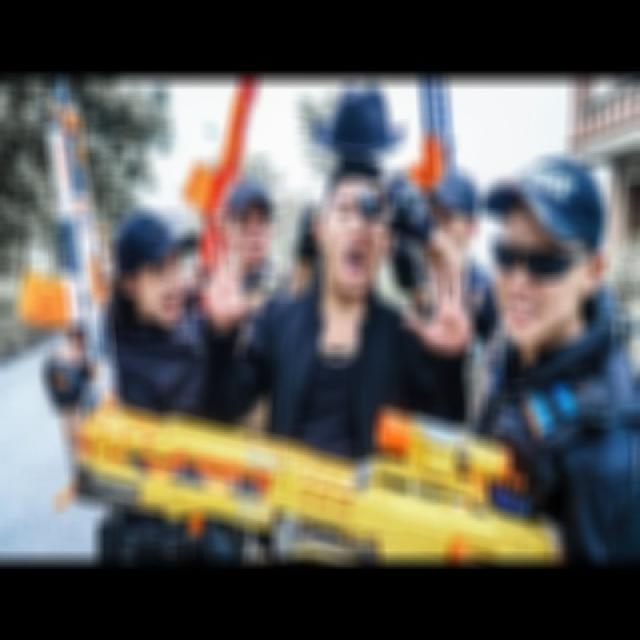Nerf gun: (59, 388, 557, 558), (12, 84, 124, 413), (174, 81, 253, 299), (396, 82, 456, 213)
